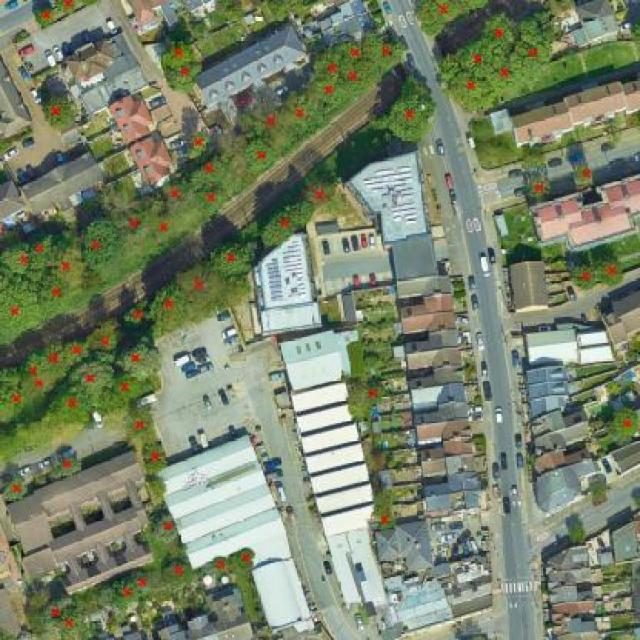tree: (376, 75, 439, 142), (0, 276, 42, 349), (48, 380, 91, 445), (412, 0, 485, 38), (262, 202, 316, 249), (252, 85, 292, 148), (107, 191, 150, 248), (172, 265, 226, 309), (110, 336, 165, 378), (514, 19, 557, 72), (80, 217, 123, 269), (209, 240, 260, 283), (152, 282, 192, 335), (67, 359, 113, 404), (279, 96, 330, 136), (162, 179, 202, 227), (187, 152, 236, 189), (135, 214, 188, 248), (48, 245, 88, 290), (35, 272, 72, 319), (363, 32, 405, 70), (0, 363, 26, 423), (452, 74, 494, 111), (335, 62, 380, 96), (163, 58, 202, 97), (121, 408, 161, 445), (41, 90, 76, 132), (156, 36, 196, 72), (484, 14, 519, 55), (488, 59, 526, 96), (460, 44, 503, 76), (20, 366, 52, 408), (107, 375, 153, 404), (39, 596, 73, 633), (244, 139, 281, 173), (83, 320, 122, 352), (39, 342, 70, 380), (27, 231, 56, 271), (0, 239, 31, 276), (302, 176, 339, 207), (149, 512, 180, 548), (610, 405, 639, 443), (141, 437, 168, 477), (162, 559, 196, 590), (121, 300, 154, 331), (315, 52, 346, 83), (340, 38, 369, 71), (58, 613, 94, 639), (372, 496, 398, 530), (597, 258, 626, 287), (20, 351, 49, 377), (196, 190, 222, 219), (315, 81, 344, 107), (570, 265, 598, 291), (184, 133, 211, 159), (112, 580, 137, 608), (61, 341, 90, 365), (148, 474, 170, 503), (132, 570, 156, 596), (529, 174, 553, 200), (1, 477, 28, 500), (56, 455, 82, 478), (361, 382, 385, 406), (206, 558, 232, 578), (36, 2, 56, 26), (237, 546, 254, 571), (53, 0, 81, 15), (576, 165, 596, 185)
